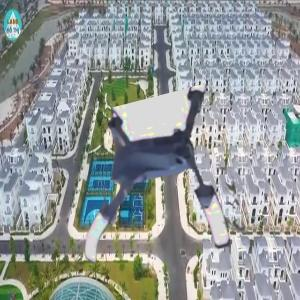drone: (62, 102, 235, 275)
